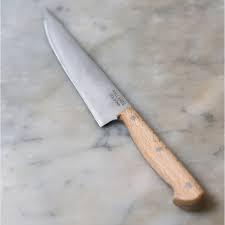kuchillu: (36, 5, 211, 211)
